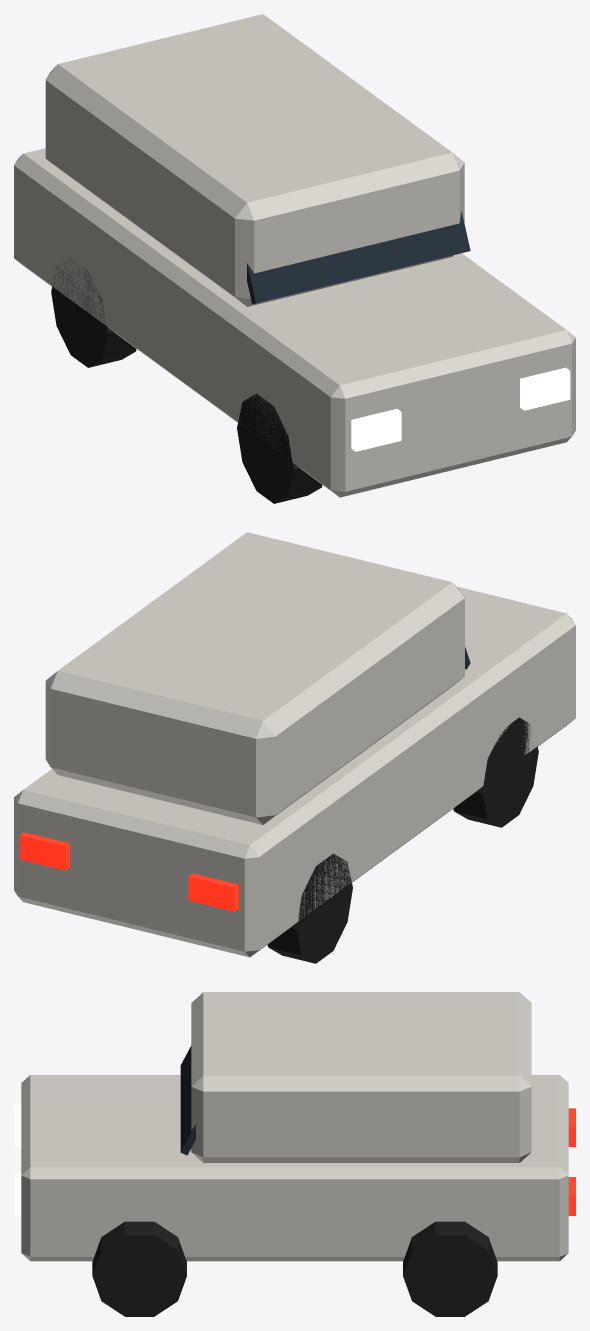
Rendered from car_b.glb.
The picture shows the model from 3 angles, top to bottom: view 1: azimuth 30°, elevation 25°; view 2: azimuth 150°, elevation 25°; view 3: azimuth 270°, elevation 25°; orthographic projection. The views are drawn at different scales.
Visible parts, largest first — view 1: car_b; view 2: car_b; view 3: car_b.
Part boxes in pixels (left/top/right/bottom): car_b: left=14, top=14, right=575, bottom=503; car_b: left=14, top=532, right=575, bottom=963; car_b: left=14, top=992, right=575, bottom=1316.
Bounding box in the file's own units: 1.82 × 1.63 × 3.8.
